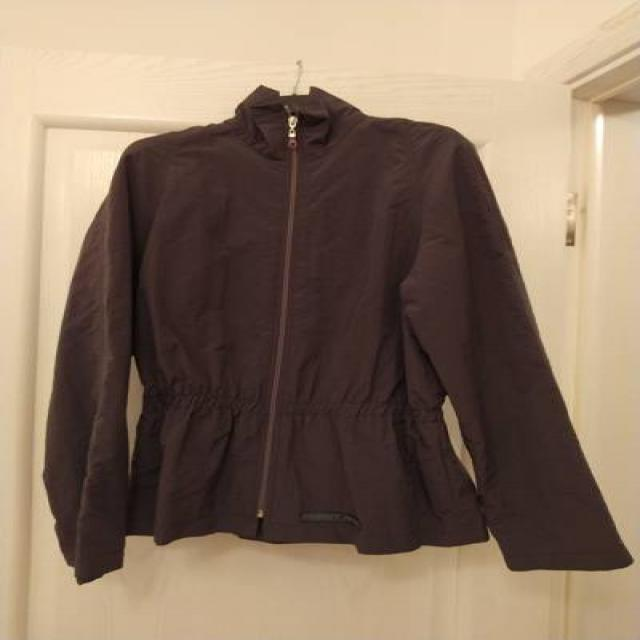Clothes -Biodegradable-: (45, 85, 635, 585)
